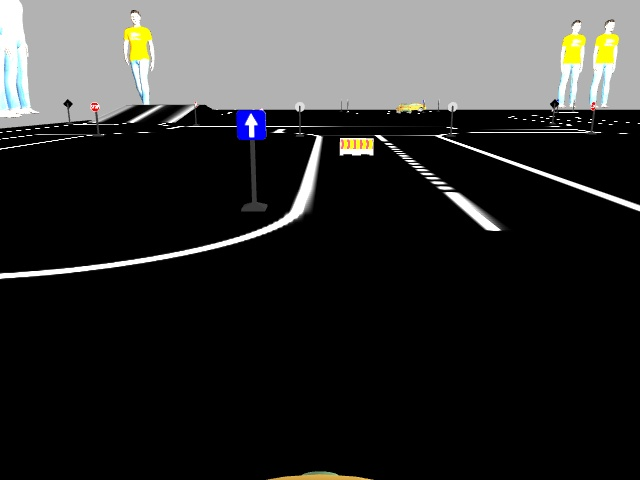ClosedRoadStand: (341, 138, 372, 153)
OneWay: (238, 110, 266, 140)
